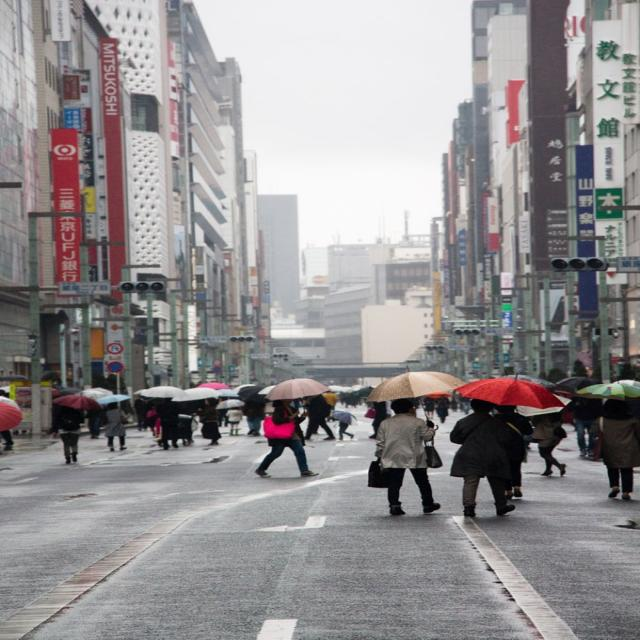body: (365, 397, 444, 515), (448, 398, 518, 516), (586, 393, 639, 501), (253, 398, 320, 478), (490, 402, 534, 500), (566, 379, 603, 457), (530, 411, 568, 477), (0, 377, 130, 395), (50, 405, 86, 465), (0, 394, 31, 456), (300, 394, 337, 441), (156, 397, 183, 451), (492, 369, 556, 390), (196, 396, 222, 446), (103, 401, 127, 451), (172, 394, 195, 446), (363, 400, 392, 439), (242, 392, 267, 436), (191, 377, 261, 392), (337, 380, 371, 408), (83, 400, 104, 440), (223, 403, 244, 436), (134, 394, 150, 432), (321, 390, 340, 422), (145, 408, 165, 438), (433, 394, 452, 424), (334, 418, 355, 440), (450, 391, 470, 413), (216, 397, 230, 427), (422, 396, 436, 420), (614, 376, 640, 387), (260, 399, 276, 415), (194, 398, 207, 416), (207, 397, 219, 409), (328, 381, 338, 393)
